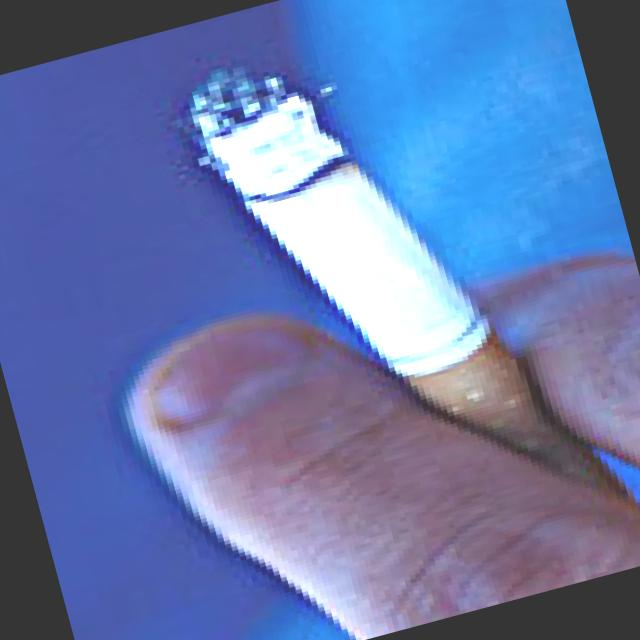smoke: (119, 0, 640, 612)
